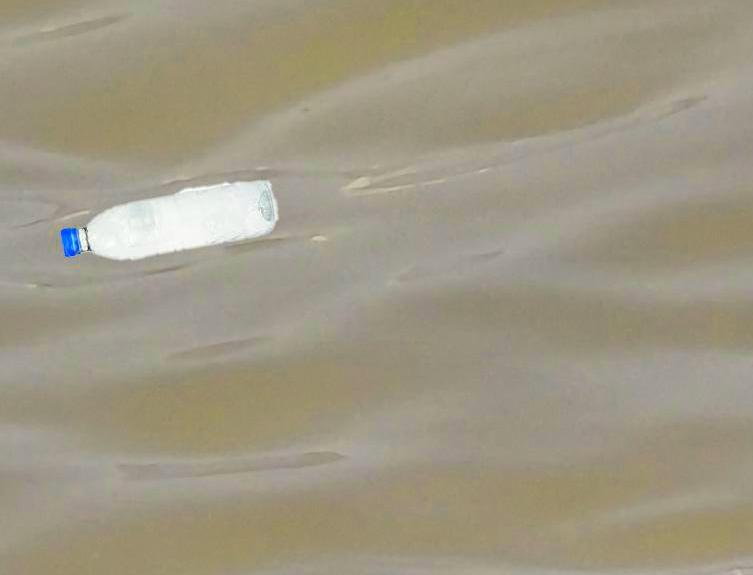Plastic: (58, 177, 282, 264)
